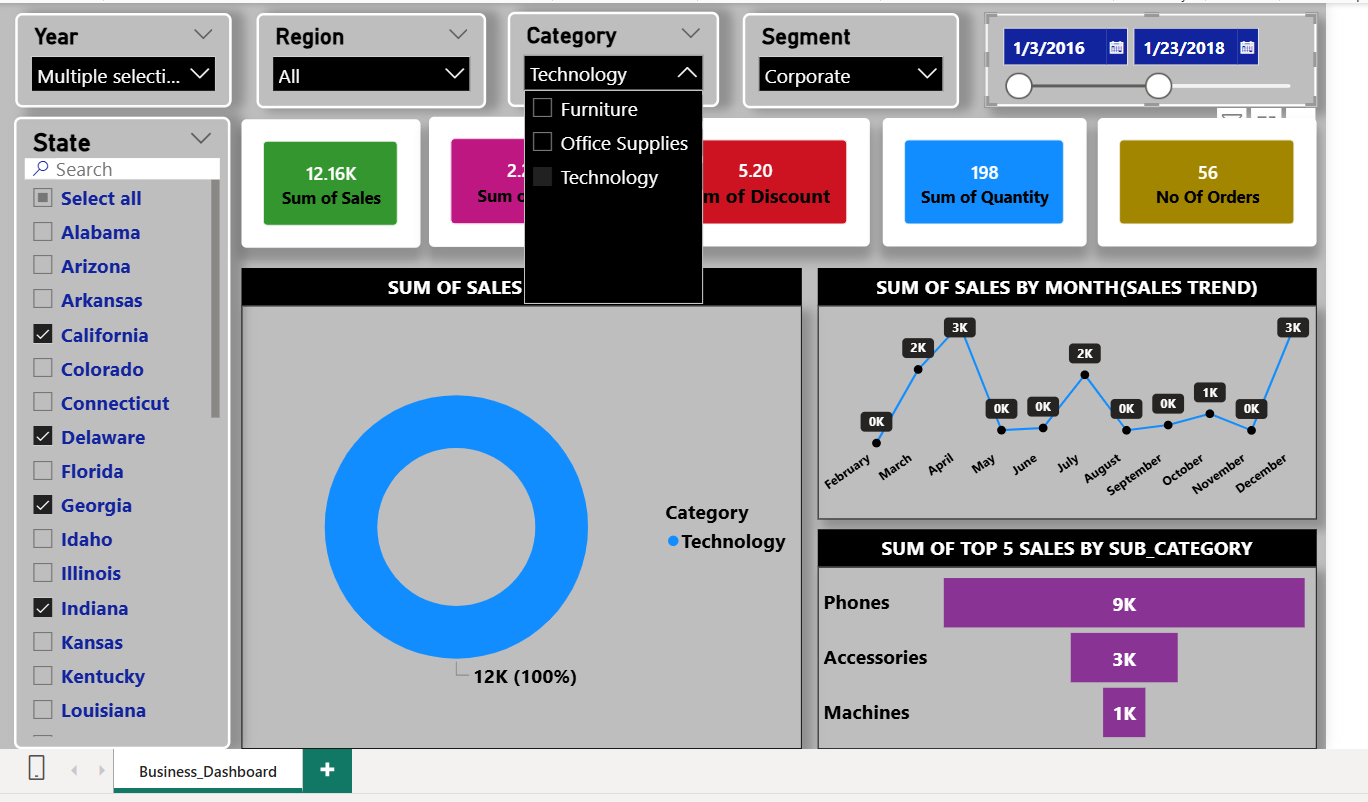

This screenshot's page, from the dashboard's own definition file:
{"tool":"powerbi","page":{"name":"Business_Dashboard","canvas":[1280,720],"ordinal":0},"visuals":[{"type":"slicer","fields":{"Values":["DATA.Order_Date.Variation.Date Hierarchy.Year"]},"box":[16.2,10,208.8,91.2],"z":0},{"type":"slicer","fields":{"Values":["DATA.Region"]},"box":[248.5,9.7,222,91.7],"z":1000},{"type":"slicer","fields":{"Values":["DATA.Category"]},"box":[491,8.4,203.9,91.7],"z":2000},{"type":"slicer","fields":{"Values":["DATA.Segment"]},"box":[717.8,9.7,208.7,91.7],"z":3000},{"type":"slicer","fields":{"Values":["DATA.State"]},"box":[15,110,208.8,610],"z":4000},{"type":"slicer","fields":{"Values":["DATA.Order_Date"]},"box":[951.9,9.7,319.7,90.5],"z":5000},{"type":"cardVisual","fields":{"Data":["Sum(DATA.Sales)"]},"box":[234,112.2,172.5,124.3],"z":6000},{"type":"cardVisual","fields":{"Data":["Sum(DATA.Profit)"]},"box":[415,109.8,193,125.5],"z":7000},{"type":"cardVisual","fields":{"Data":["Sum(DATA.Discount)"]},"box":[618.9,111,222,124.3],"z":8000},{"type":"cardVisual","fields":{"Data":["Sum(DATA.Quantity)"]},"box":[853,111,196.6,124.3],"z":9000},{"type":"cardVisual","fields":{"Data":["CountNonNull(DATA.Order ID)"]},"box":[1060.5,111,211.1,124.3],"z":10000},{"type":"lineChart","fields":{"Category":["DATA.Order_Date.Variation.Date Hierarchy.Month"],"Y":["Sum(DATA.Sales)"]},"box":[790.2,292,481.4,206.3],"z":11000},{"type":"textbox","box":[790.2,255.8,481.4,36.2],"z":12000},{"type":"funnel","fields":{"Category":["DATA.Sub_Category"],"Y":["Sum(DATA.Sales)"]},"box":[790.2,544.1,481.4,176.1],"z":13000},{"type":"textbox","box":[790.2,507.9,481.4,36.2],"z":14000},{"type":"donutChart","fields":{"Category":["DATA.Category"],"Y":["Sum(DATA.Sales)"]},"box":[234,292,540.5,428.3],"z":14001},{"type":"textbox","box":[234,255.8,540.5,36.2],"z":14002}]}

Visuals, with their boxes in screenshot pixels (x1, y1, x2, y2):
slicer - DATA.Order_Date.Variation.Date Hierarchy.Year: 0 3 219 100
slicer - DATA.Region: 244 3 478 100
slicer - DATA.Category: 500 2 715 98
slicer - DATA.Segment: 739 3 959 100
slicer - DATA.State: 0 109 218 752
slicer - DATA.Order_Date: 985 3 1322 98
cardVisual - Sum(DATA.Sales): 229 111 411 242
cardVisual - Sum(DATA.Profit): 420 109 623 241
cardVisual - Sum(DATA.Discount): 634 110 868 241
cardVisual - Sum(DATA.Quantity): 881 110 1088 241
cardVisual - CountNonNull(DATA.Order ID): 1100 110 1322 241
lineChart - DATA.Order_Date.Variation.Date Hierarchy.Month x Sum(DATA.Sales): 815 301 1322 518
textbox: 815 262 1322 301
funnel - DATA.Sub_Category x Sum(DATA.Sales): 815 566 1322 752
textbox: 815 528 1322 566
donutChart - DATA.Category x Sum(DATA.Sales): 229 301 798 752
textbox: 229 262 798 301
